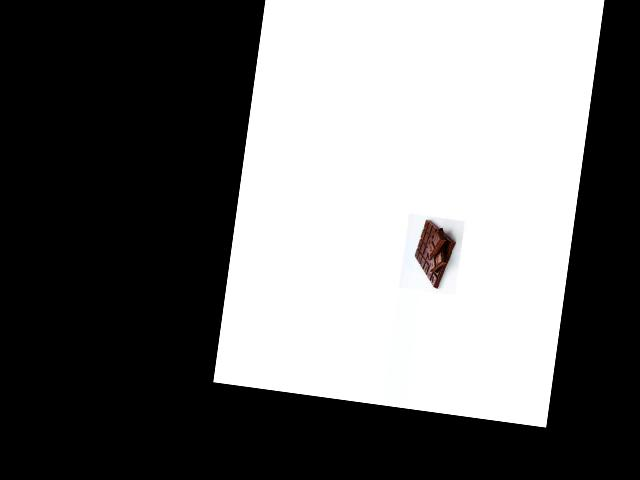chocolate: (407, 217, 461, 291)
